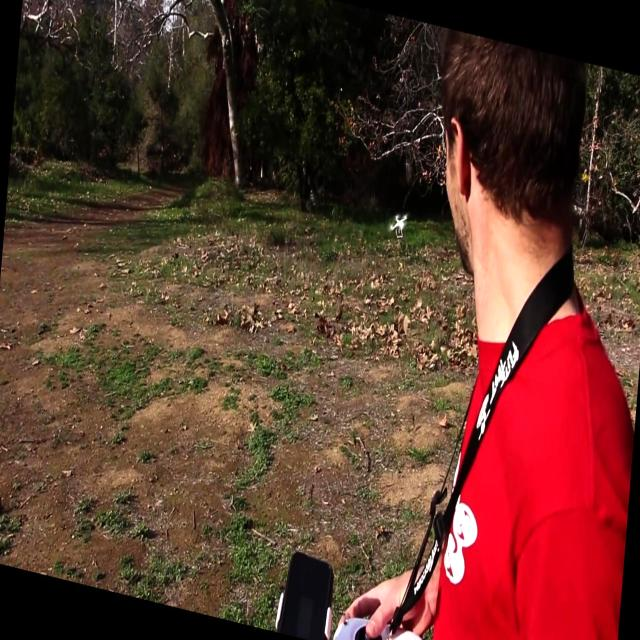drone: (383, 197, 410, 247)
